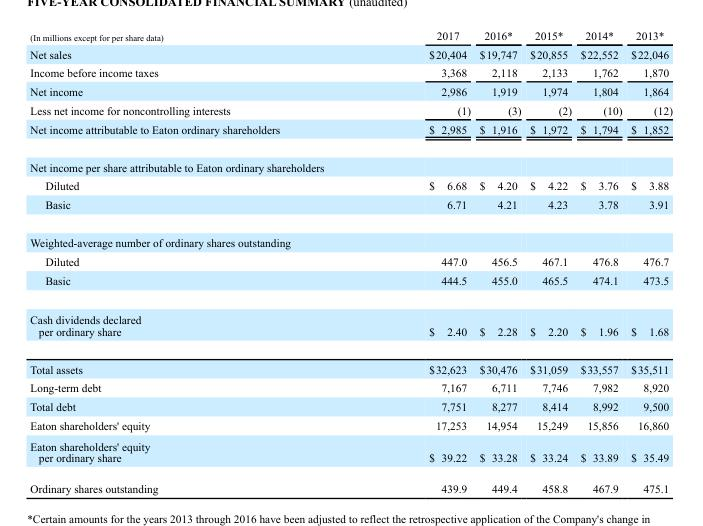table: (29, 29, 671, 494)
table column: (29, 29, 353, 494), (353, 29, 474, 494), (524, 29, 575, 494), (474, 29, 524, 494), (575, 29, 625, 494), (625, 29, 671, 494)
table column header: (29, 29, 671, 44)
table projected row header: (29, 147, 671, 176), (29, 223, 671, 251)
table row: (29, 299, 671, 349), (29, 435, 671, 472), (29, 147, 671, 176), (29, 270, 671, 299), (29, 349, 671, 378), (29, 119, 671, 147), (29, 195, 671, 223), (29, 223, 671, 251), (29, 472, 671, 494), (29, 44, 671, 63), (29, 81, 671, 100), (29, 100, 671, 119), (29, 176, 671, 195), (29, 251, 671, 270), (29, 378, 671, 397), (29, 397, 671, 416), (29, 416, 671, 435), (29, 63, 671, 81), (29, 29, 671, 44)
